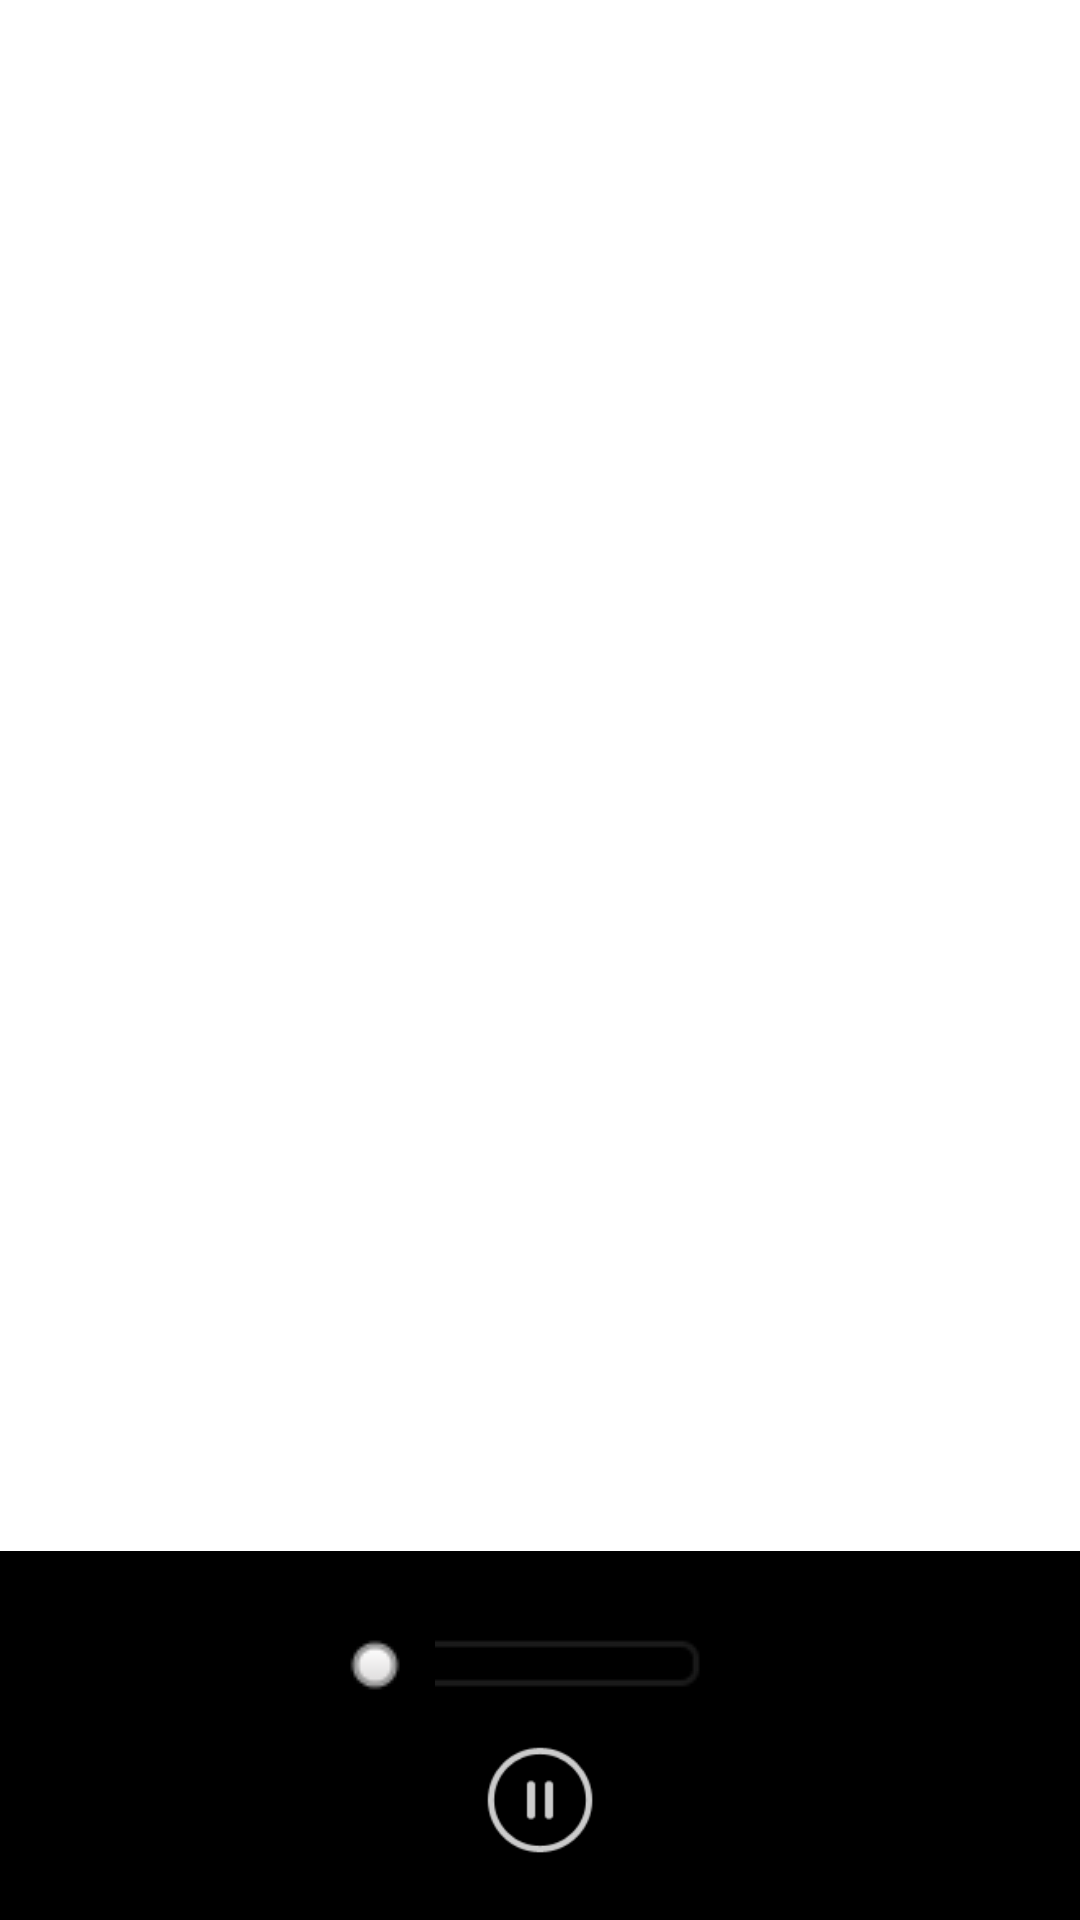

Screen size 1080px x 1920px. Icon name, then its center in pixels as [x,y]:
tui mediacontroller pause: [540,1800]
